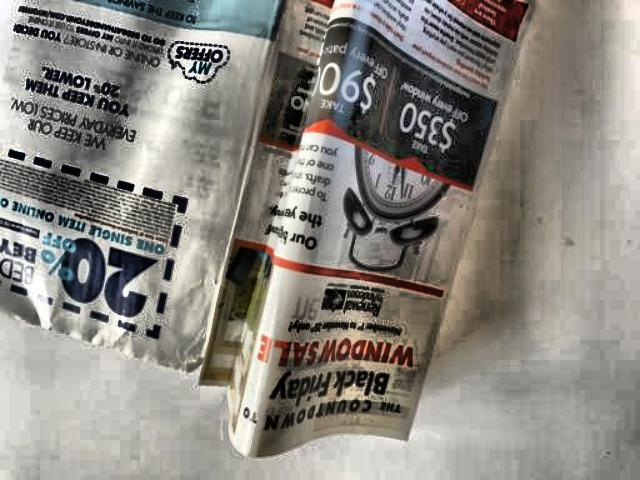Paper: (0, 0, 535, 458)
